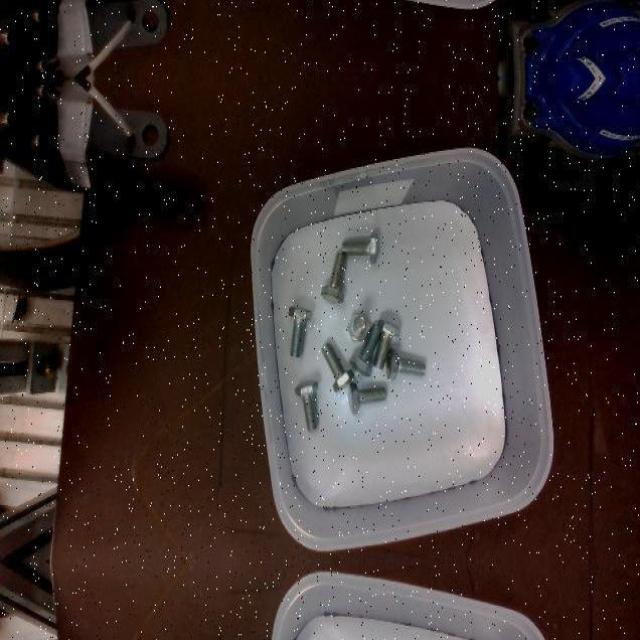screw: (349, 325, 382, 377), (321, 341, 354, 392), (320, 251, 346, 304), (374, 319, 401, 370), (385, 348, 426, 380), (294, 381, 318, 432), (288, 305, 312, 356), (348, 382, 386, 414), (341, 232, 377, 264), (346, 313, 370, 341)
